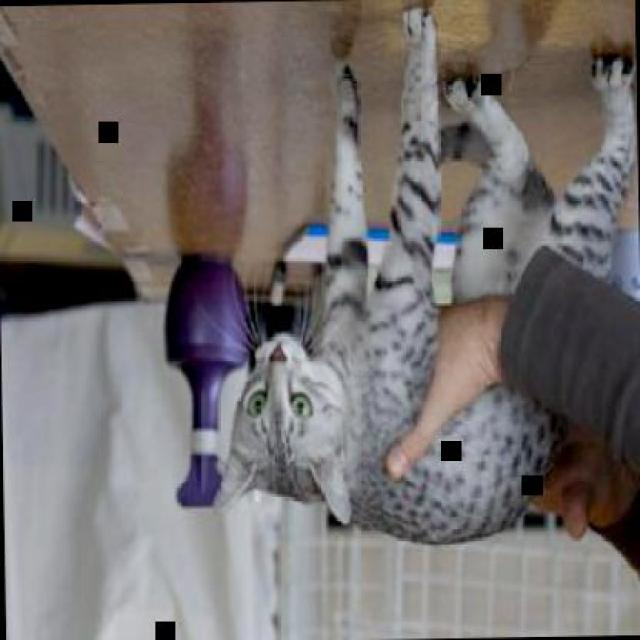cat: (200, 0, 638, 549)
